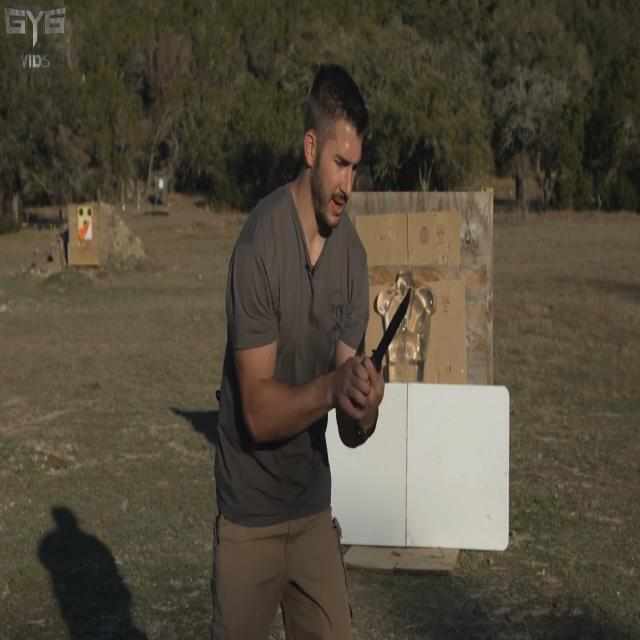knife: (364, 284, 420, 386)
